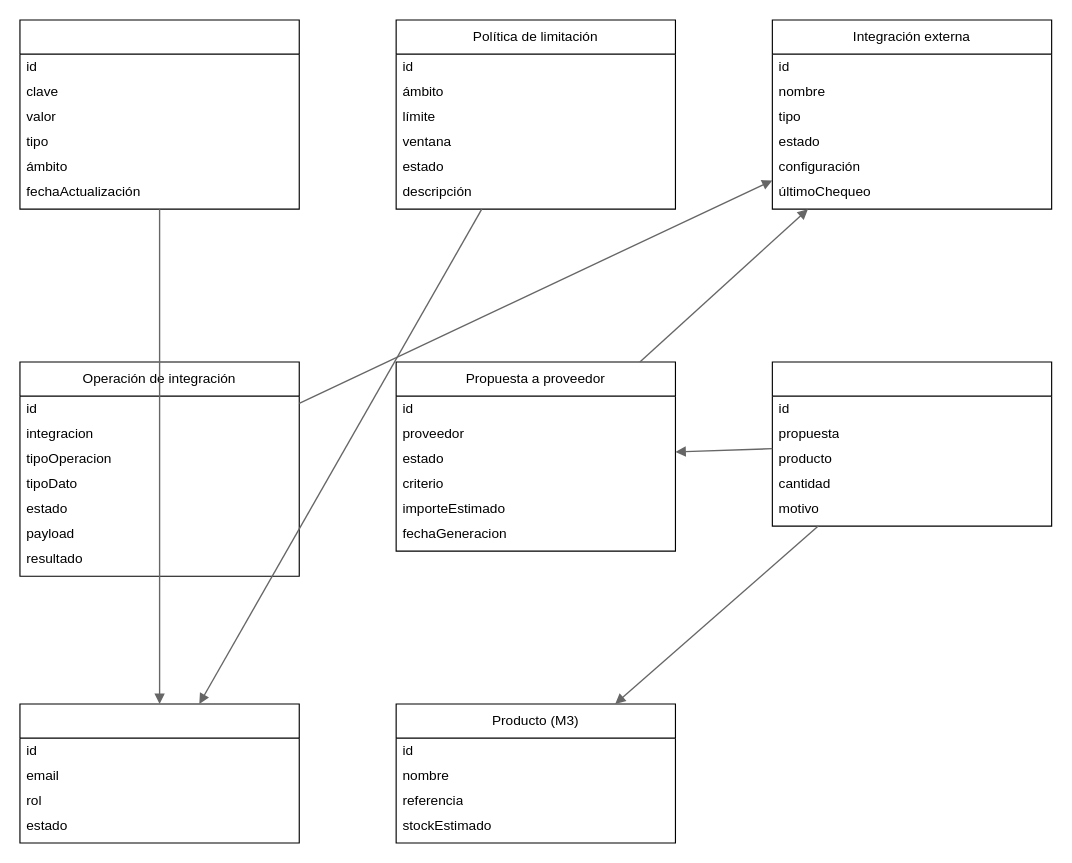
Image size: 1072x863. Some labels were removed from this diagram. The shapes that lost their labels are listed below. From the top down, each one's box as (x1, y1, x2, y2) in pixels, then its label:
(19, 19, 299, 209): Configuración del sistema
(771, 361, 1052, 526): Línea de propuesta
(19, 703, 299, 843): Usuario (M1)
